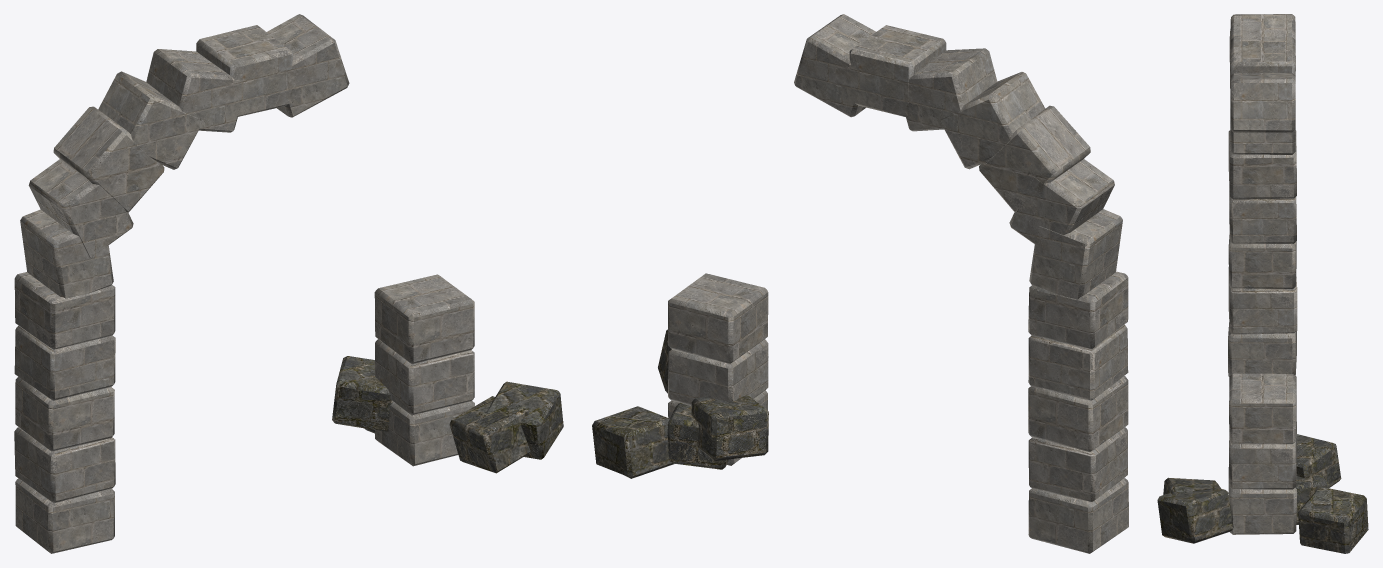
The model's file is broken-arch-v01.glb.
The picture shows the model from 3 angles, left to right: view 1: azimuth 30°, elevation 25°; view 2: azimuth 150°, elevation 25°; view 3: azimuth 270°, elevation 25°; orthographic projection. The views are drawn at different scales.
Visible parts, largest first — view 1: broken-arch; view 2: broken-arch; view 3: broken-arch.
Part boxes in pixels (x1,y1,x2,y2): broken-arch: (14,14,563,553); broken-arch: (592,14,1128,553); broken-arch: (1157,14,1368,553).
Bounding box in the file's own units: 4.65 × 4.04 × 1.95.
Materials: 2 (2 with a texture image).
